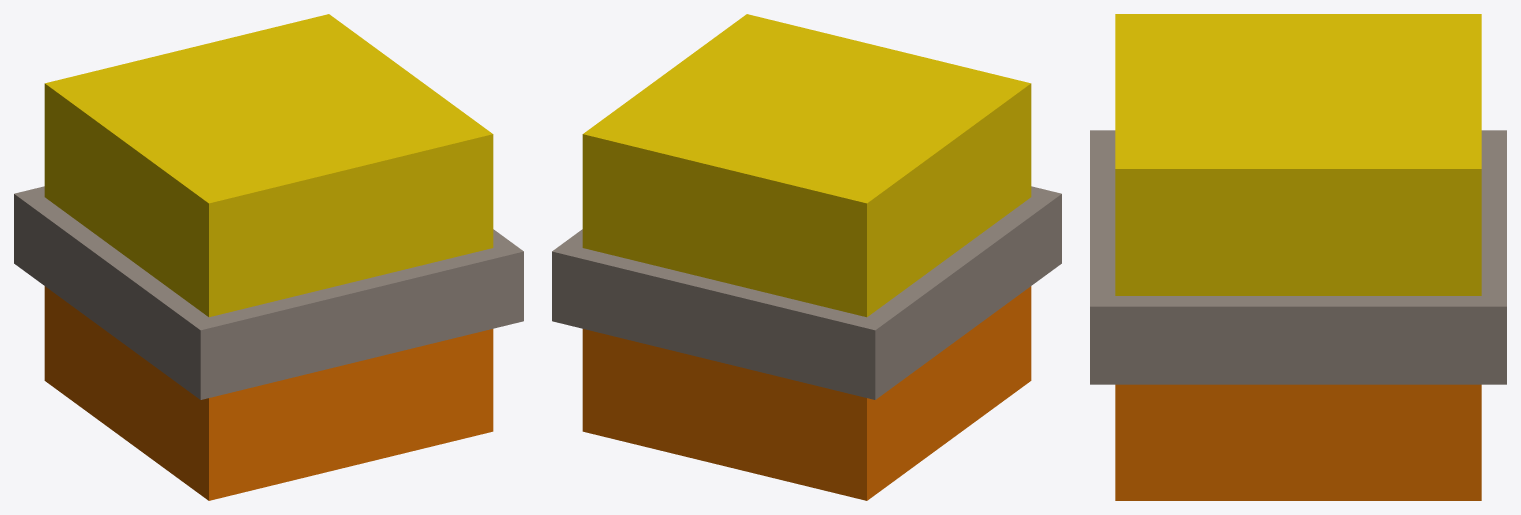
Rendered from bobber.fbx.
3 views of the same model, side by side, from view 1: azimuth 30°, elevation 25°; view 2: azimuth 150°, elevation 25°; view 3: azimuth 270°, elevation 25° (orthographic). The views are drawn at different scales.
Parts seen in each view (by area): view 1: Base.001, Base, Ring; view 2: Base.001, Base, Ring; view 3: Base.001, Ring, Base.
Part boxes in pixels (x1,y1,x2,y2): Base.001: (44,14,493,317); Base: (44,286,493,500); Ring: (14,186,523,399); Base.001: (582,14,1031,317); Base: (582,286,1031,500); Ring: (552,186,1061,399); Base.001: (1115,14,1481,295); Ring: (1090,130,1506,384); Base: (1115,384,1481,500).
Bounding box in the file's own units: 227 × 200 × 227.
